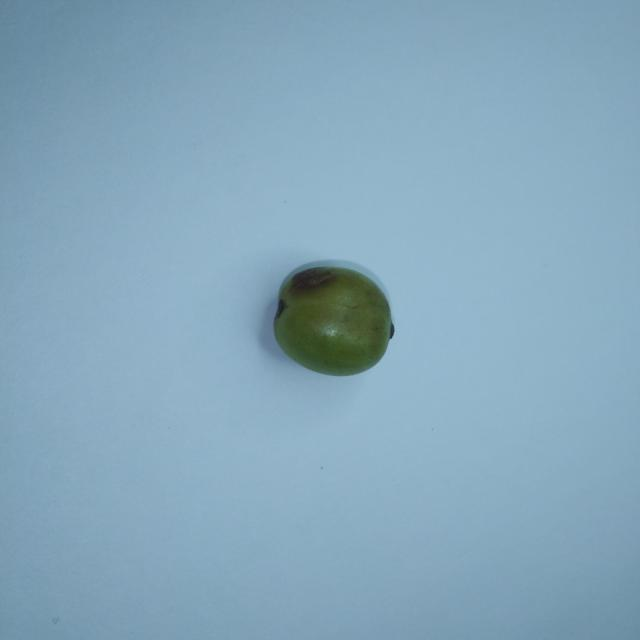Sano: (273, 263, 394, 375)
